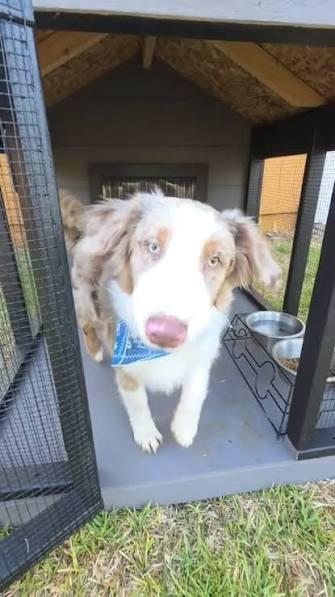adult_dog: (61, 189, 283, 455)
